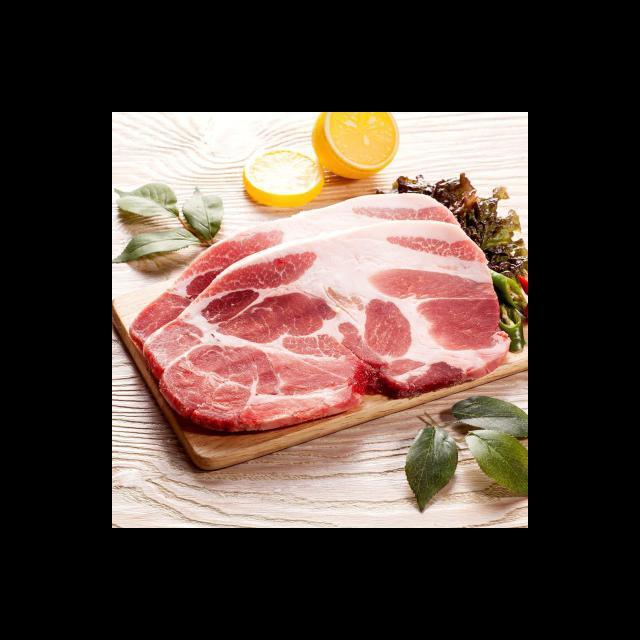pork: (153, 211, 502, 427)
